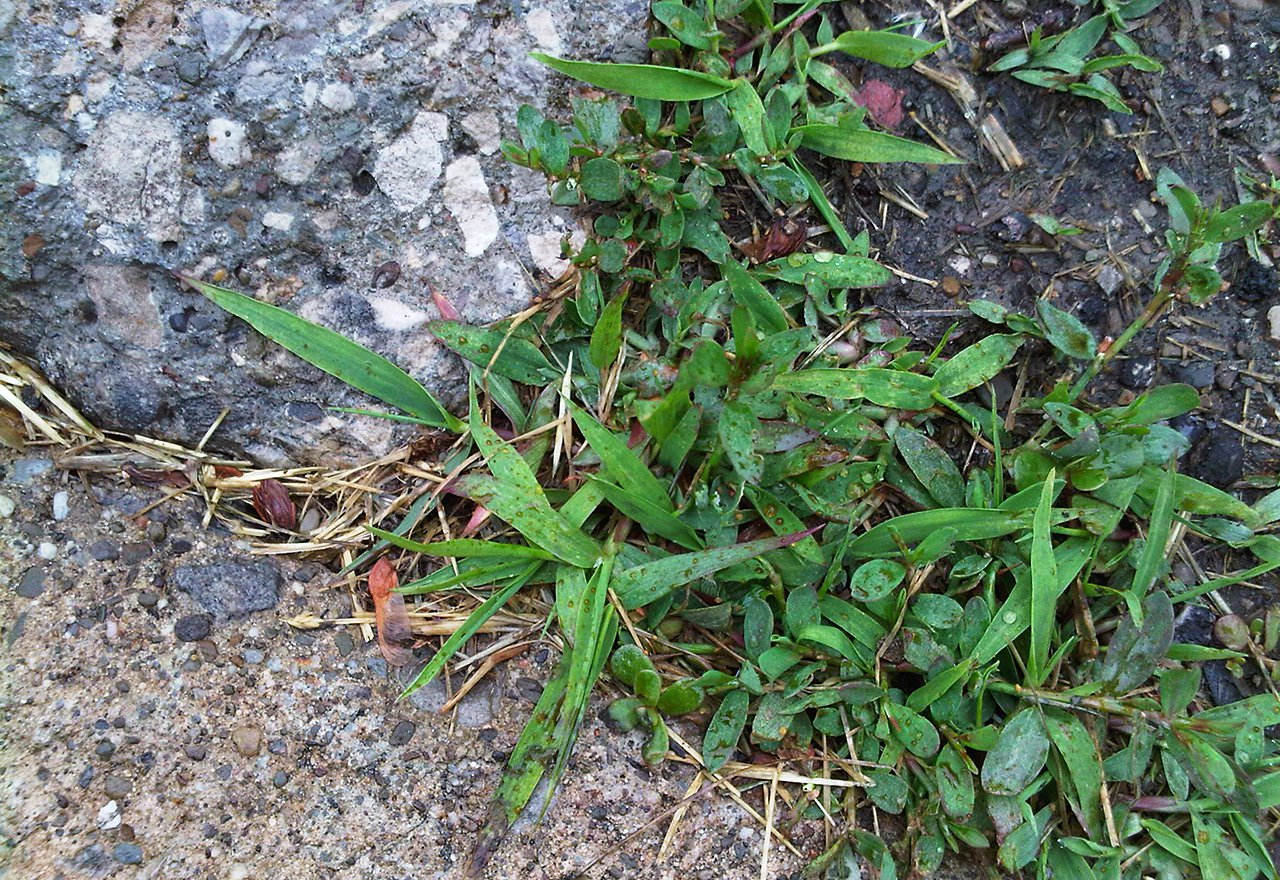crabgrass: (417, 256, 1226, 694)
